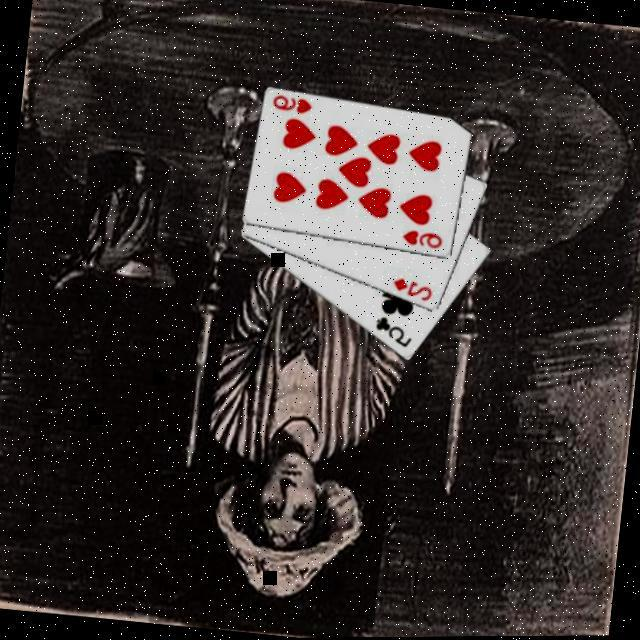2D: (387, 276, 434, 307)
5C: (368, 315, 414, 353)
9H: (268, 93, 315, 120), (397, 228, 445, 254)
